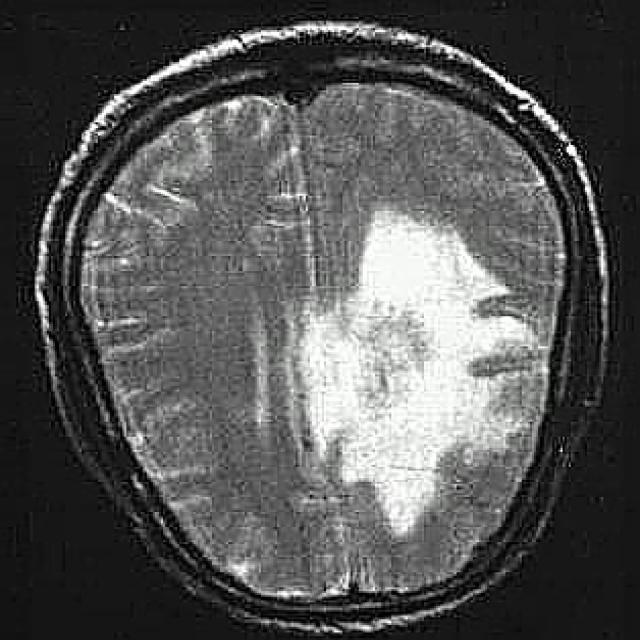Tumor-Cell: (288, 206, 531, 507)
